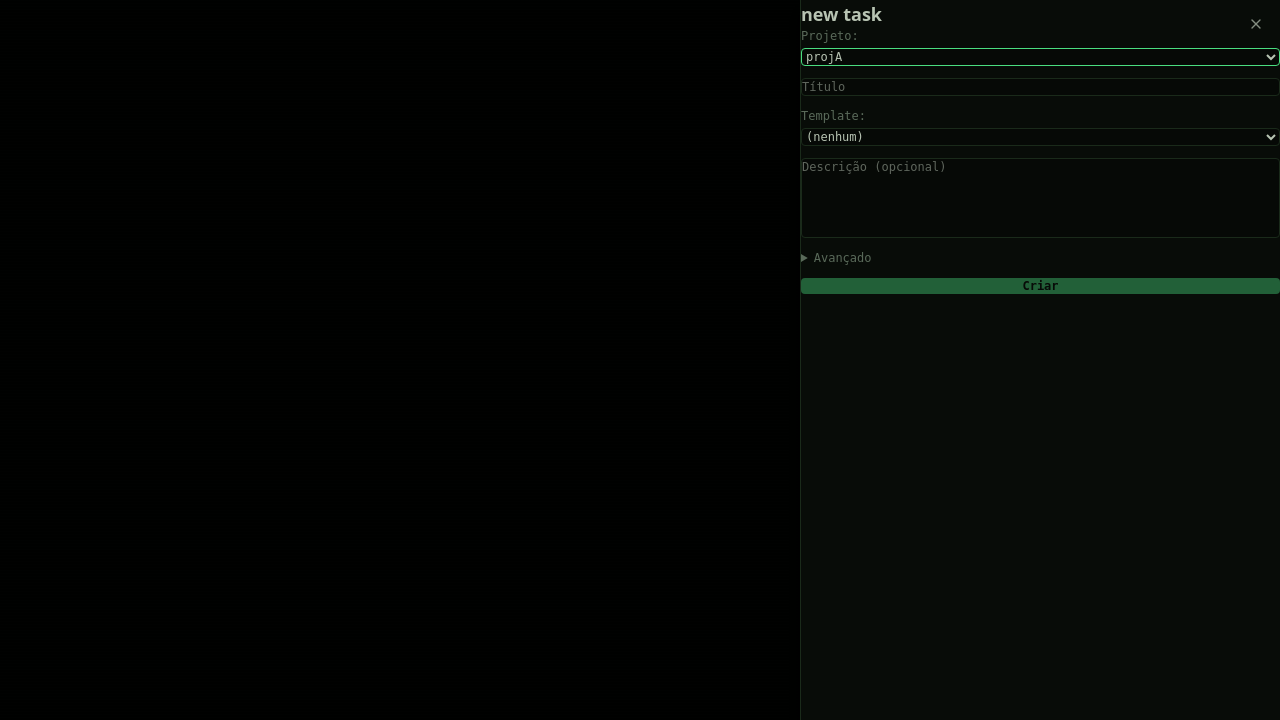
NewTaskSheet › shows branch hint when template + title provided + no branch override
Type "Add dark mode" into the field labelled "Título".
click(1040, 87); type("Add dark mode")  # box [801,78,1279,96]
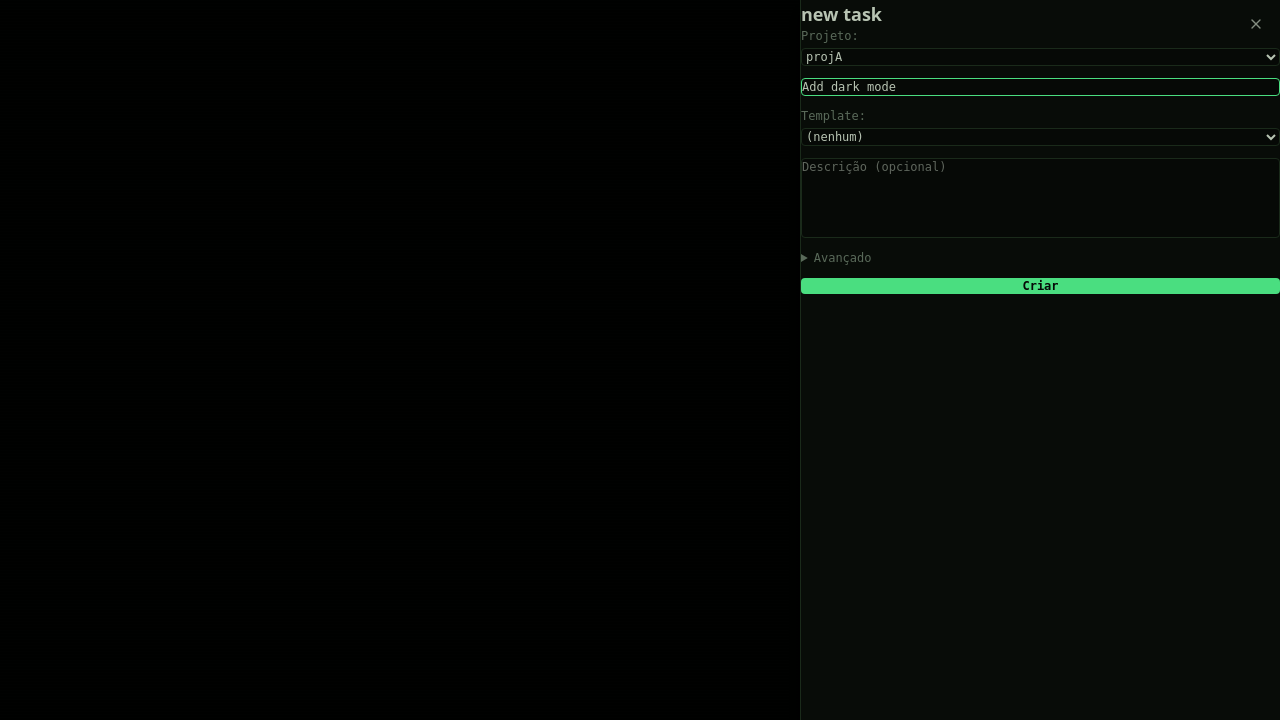
Select "frontend — UI" in the dropdown labelled "Template" at (1040, 137), box [801,128,1279,146]
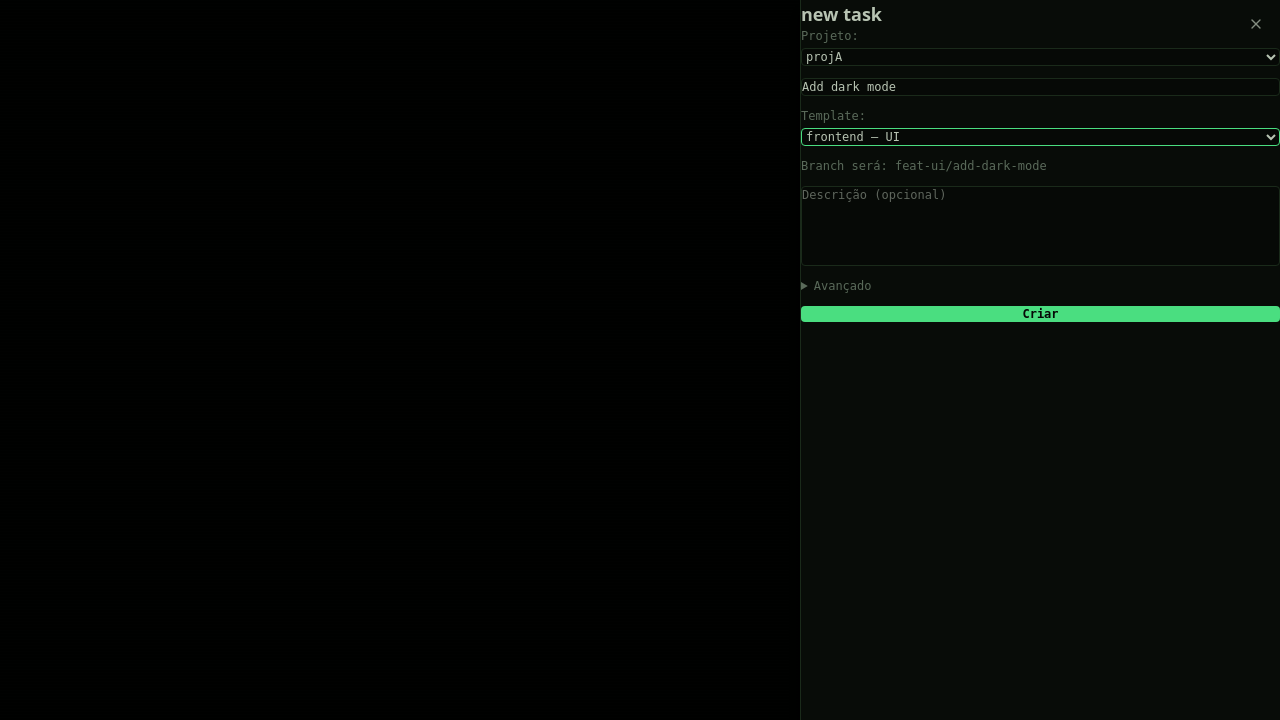
Result: the text named "template-hint" shows "feat-ui/add-dark-mode" at [801,159,1047,173]
